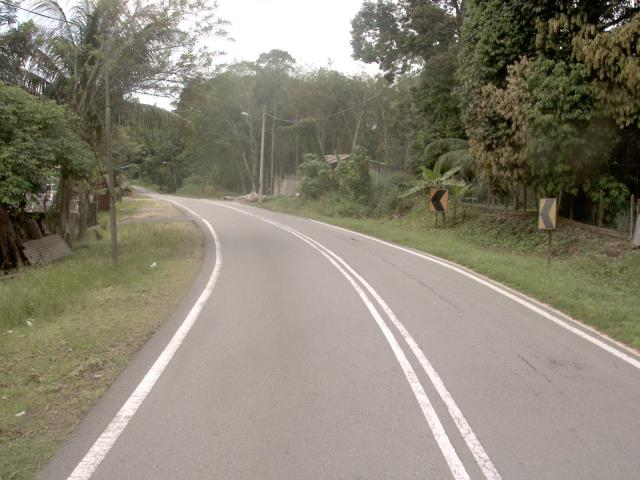traffic_sign: (531, 190, 564, 236)
